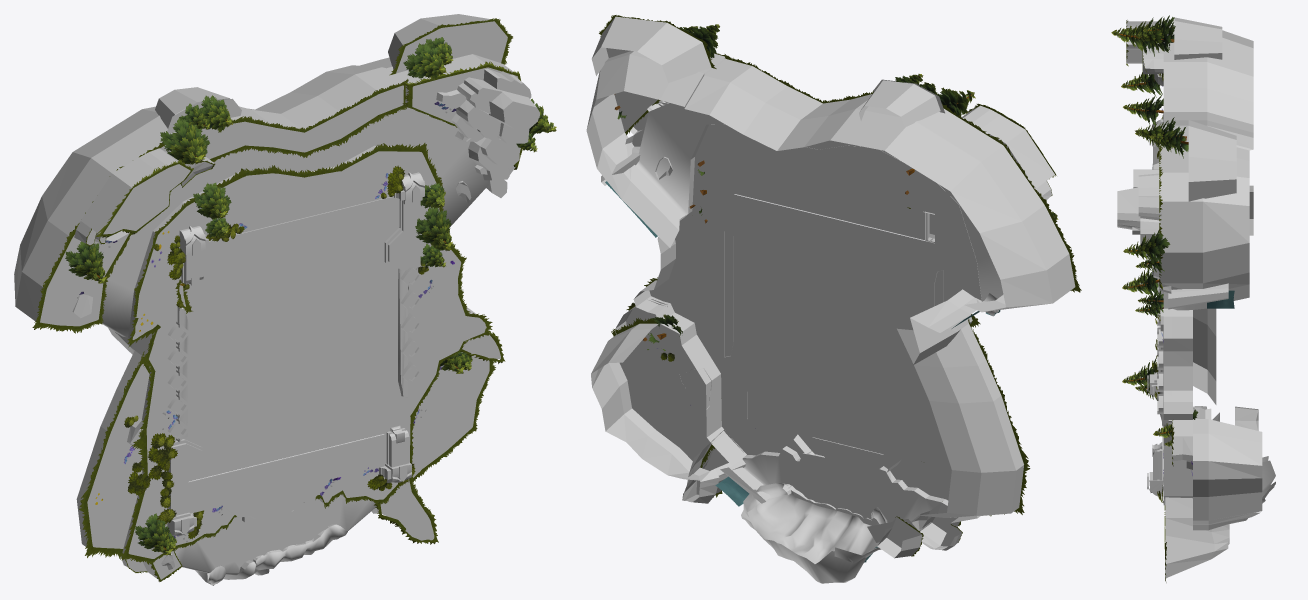
The model's file is tft.fbx.
3 views of the same model, side by side, from view 1: azimuth 30°, elevation 25°; view 2: azimuth 150°, elevation 25°; view 3: azimuth 270°, elevation 25° (orthographic). The views are drawn at different scales.
Visible parts, largest first — view 1: Plane001_TFT_plane_0, Oper_Material #25_0, Object009_TFT_stone_0, Cliff_TFT_cliff_0, stone_TFT_rock_0, Object037_TFT_rock_0; view 2: Plane001_TFT_plane_0, Cliff_TFT_cliff_0, Object009_TFT_stone_0, Object037_TFT_rock_0, Oper_Material #25_0, stone_TFT_rock_0; view 3: Cliff_TFT_cliff_0, Oper_Material #25_0, stone_TFT_rock_0, Object009_TFT_stone_0, Object037_TFT_rock_0.
Boxes of the visible parts, box(x1,y1,x2,y2) form: Plane001_TFT_plane_0: box(40, 21, 520, 579); Oper_Material #25_0: box(32, 18, 556, 581); Object009_TFT_stone_0: box(72, 172, 471, 569); Cliff_TFT_cliff_0: box(14, 14, 515, 579); stone_TFT_rock_0: box(436, 68, 539, 342); Object037_TFT_rock_0: box(195, 524, 347, 585); Plane001_TFT_plane_0: box(606, 48, 1022, 547); Cliff_TFT_cliff_0: box(586, 16, 1075, 558); Object009_TFT_stone_0: box(655, 157, 943, 472); Object037_TFT_rock_0: box(741, 293, 998, 583); Oper_Material #25_0: box(599, 15, 1081, 562); stone_TFT_rock_0: box(601, 100, 669, 306); Cliff_TFT_cliff_0: box(1126, 17, 1262, 578); Oper_Material #25_0: box(1111, 15, 1234, 582); stone_TFT_rock_0: box(1117, 163, 1228, 424); Object009_TFT_stone_0: box(1147, 73, 1192, 496); Object037_TFT_rock_0: box(1163, 456, 1275, 523).
Size of the model in its own units: 231153 by 227042 by 77641.
Materials: 5 (1 with a texture image).
